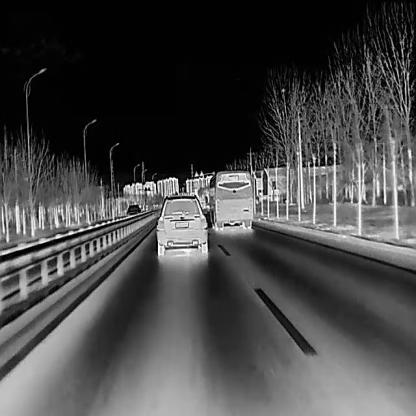bus: (204, 170, 252, 228)
car: (156, 192, 208, 255), (125, 204, 141, 218)
